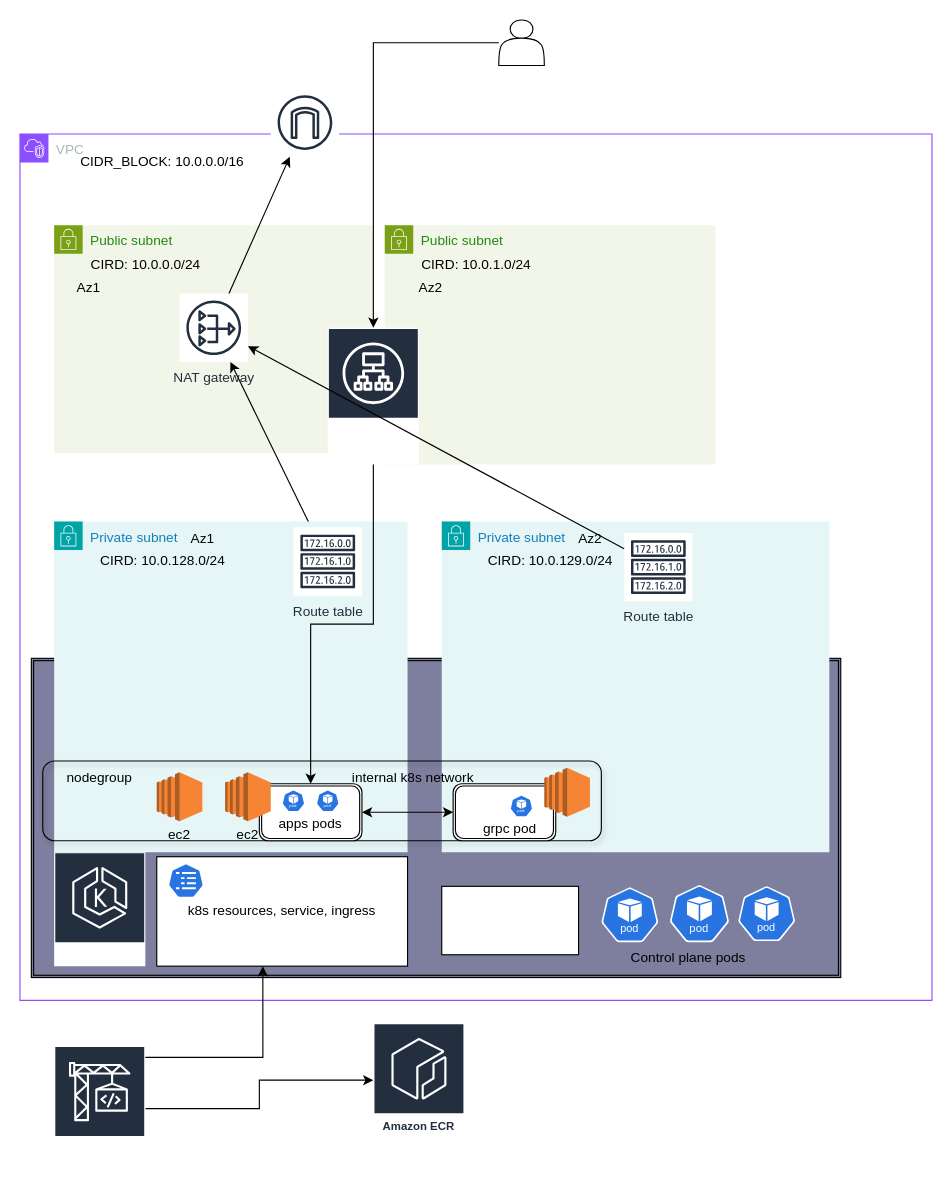
Image size: 952x1191. Some labels were removed from this diagram. The shapes that lost their labels are listed below. From the top down, each one's centre as x and y in pixels, then its label:
At (304,122): "Internet gateway".
At (373,396): "Application Load Balancer Ingress".
At (99,908): "Amazon EKS".
At (510,920): "LBC".
At (99,1108): "AWS CodeBuild".
